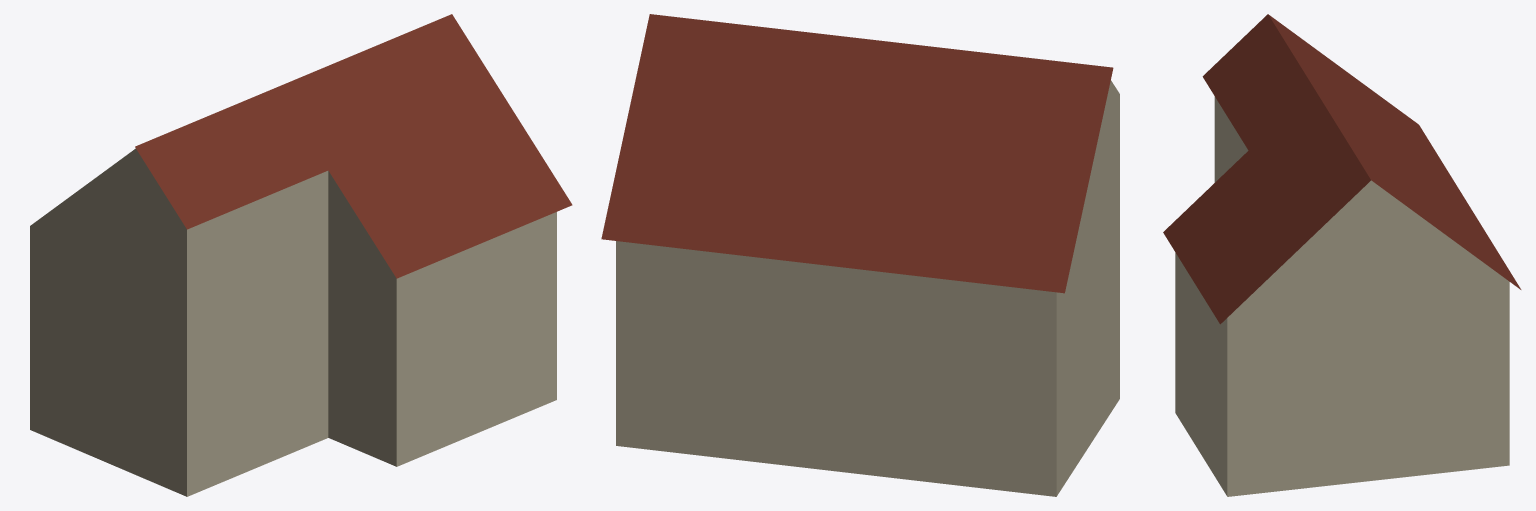
3 views of the same model, side by side, from view 1: azimuth 30°, elevation 25°; view 2: azimuth 150°, elevation 25°; view 3: azimuth 270°, elevation 25° (orthographic). The views are drawn at different scales.
Parts seen in each view (by area): view 1: buildings; view 2: buildings; view 3: buildings.
Part boxes in pixels (x1,y1,x2,y2): buildings: [30, 14, 572, 496]; buildings: [601, 14, 1119, 496]; buildings: [1163, 14, 1521, 496].
Bounding box in the file's own units: 14.07 × 10.01 × 10.68.
